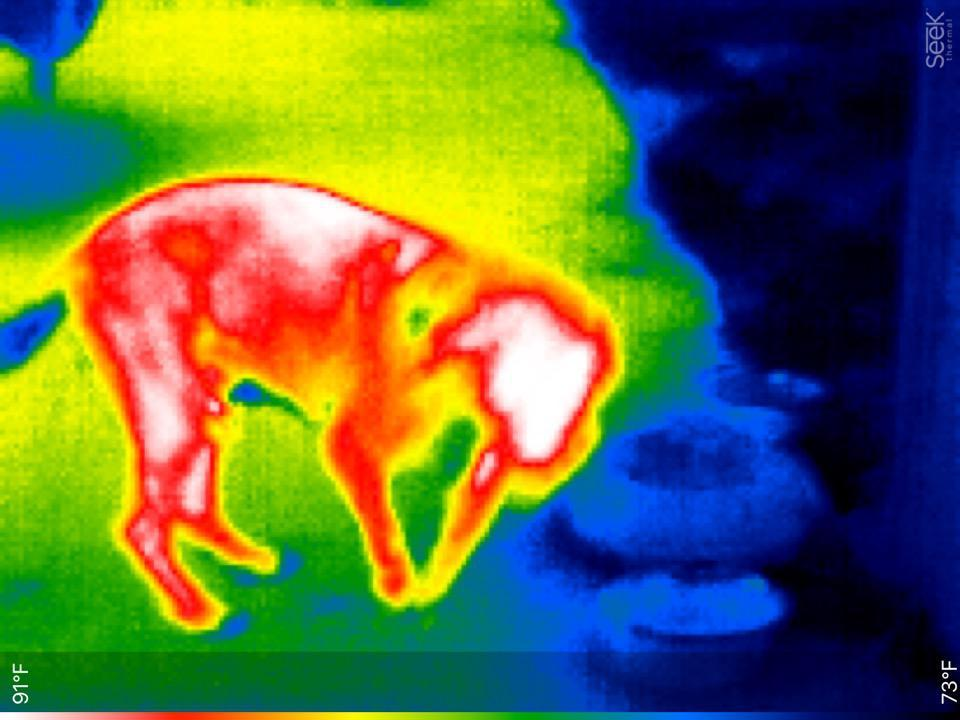dog: (62, 166, 631, 631)
